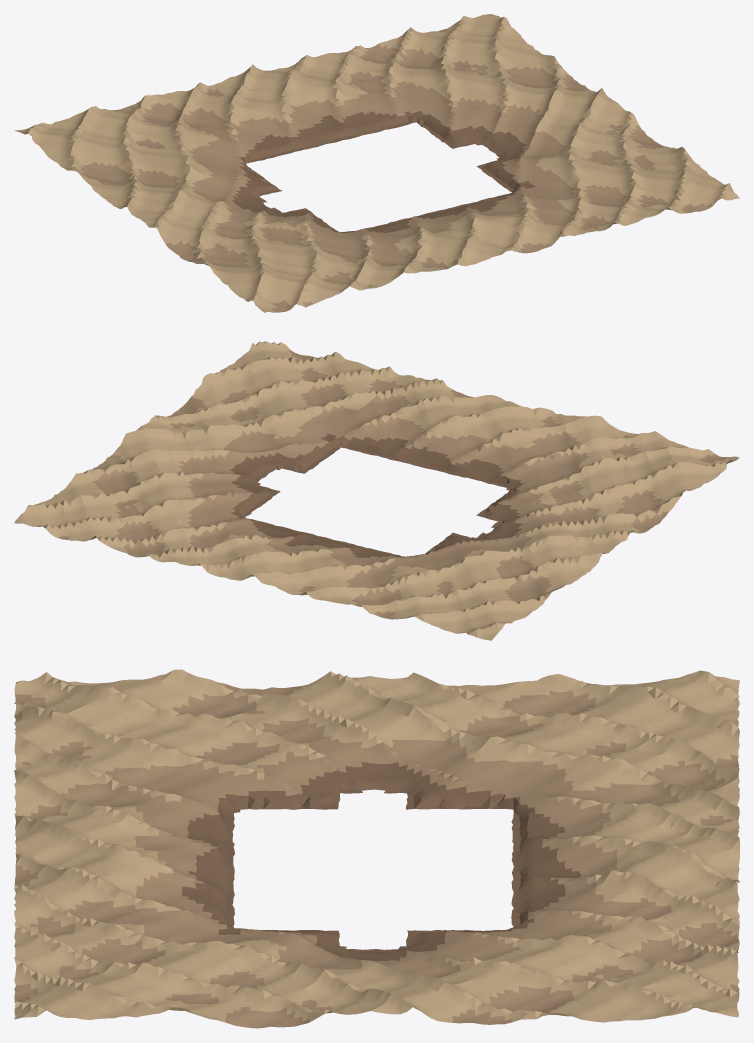
File: borda-horizonte.glb
The picture shows the model from 3 angles, top to bottom: view 1: azimuth 30°, elevation 25°; view 2: azimuth 150°, elevation 25°; view 3: azimuth 270°, elevation 25°; orthographic projection. The views are drawn at different scales.
Parts seen in each view (by area): view 1: borda-horizonte; view 2: borda-horizonte; view 3: borda-horizonte.
Part boxes in pixels (bbox=[...]): borda-horizonte: bbox=[15, 14, 739, 312]; borda-horizonte: bbox=[14, 341, 739, 640]; borda-horizonte: bbox=[14, 669, 739, 1028].
Size of the model in its own units: 6594 by 330 by 5973.
